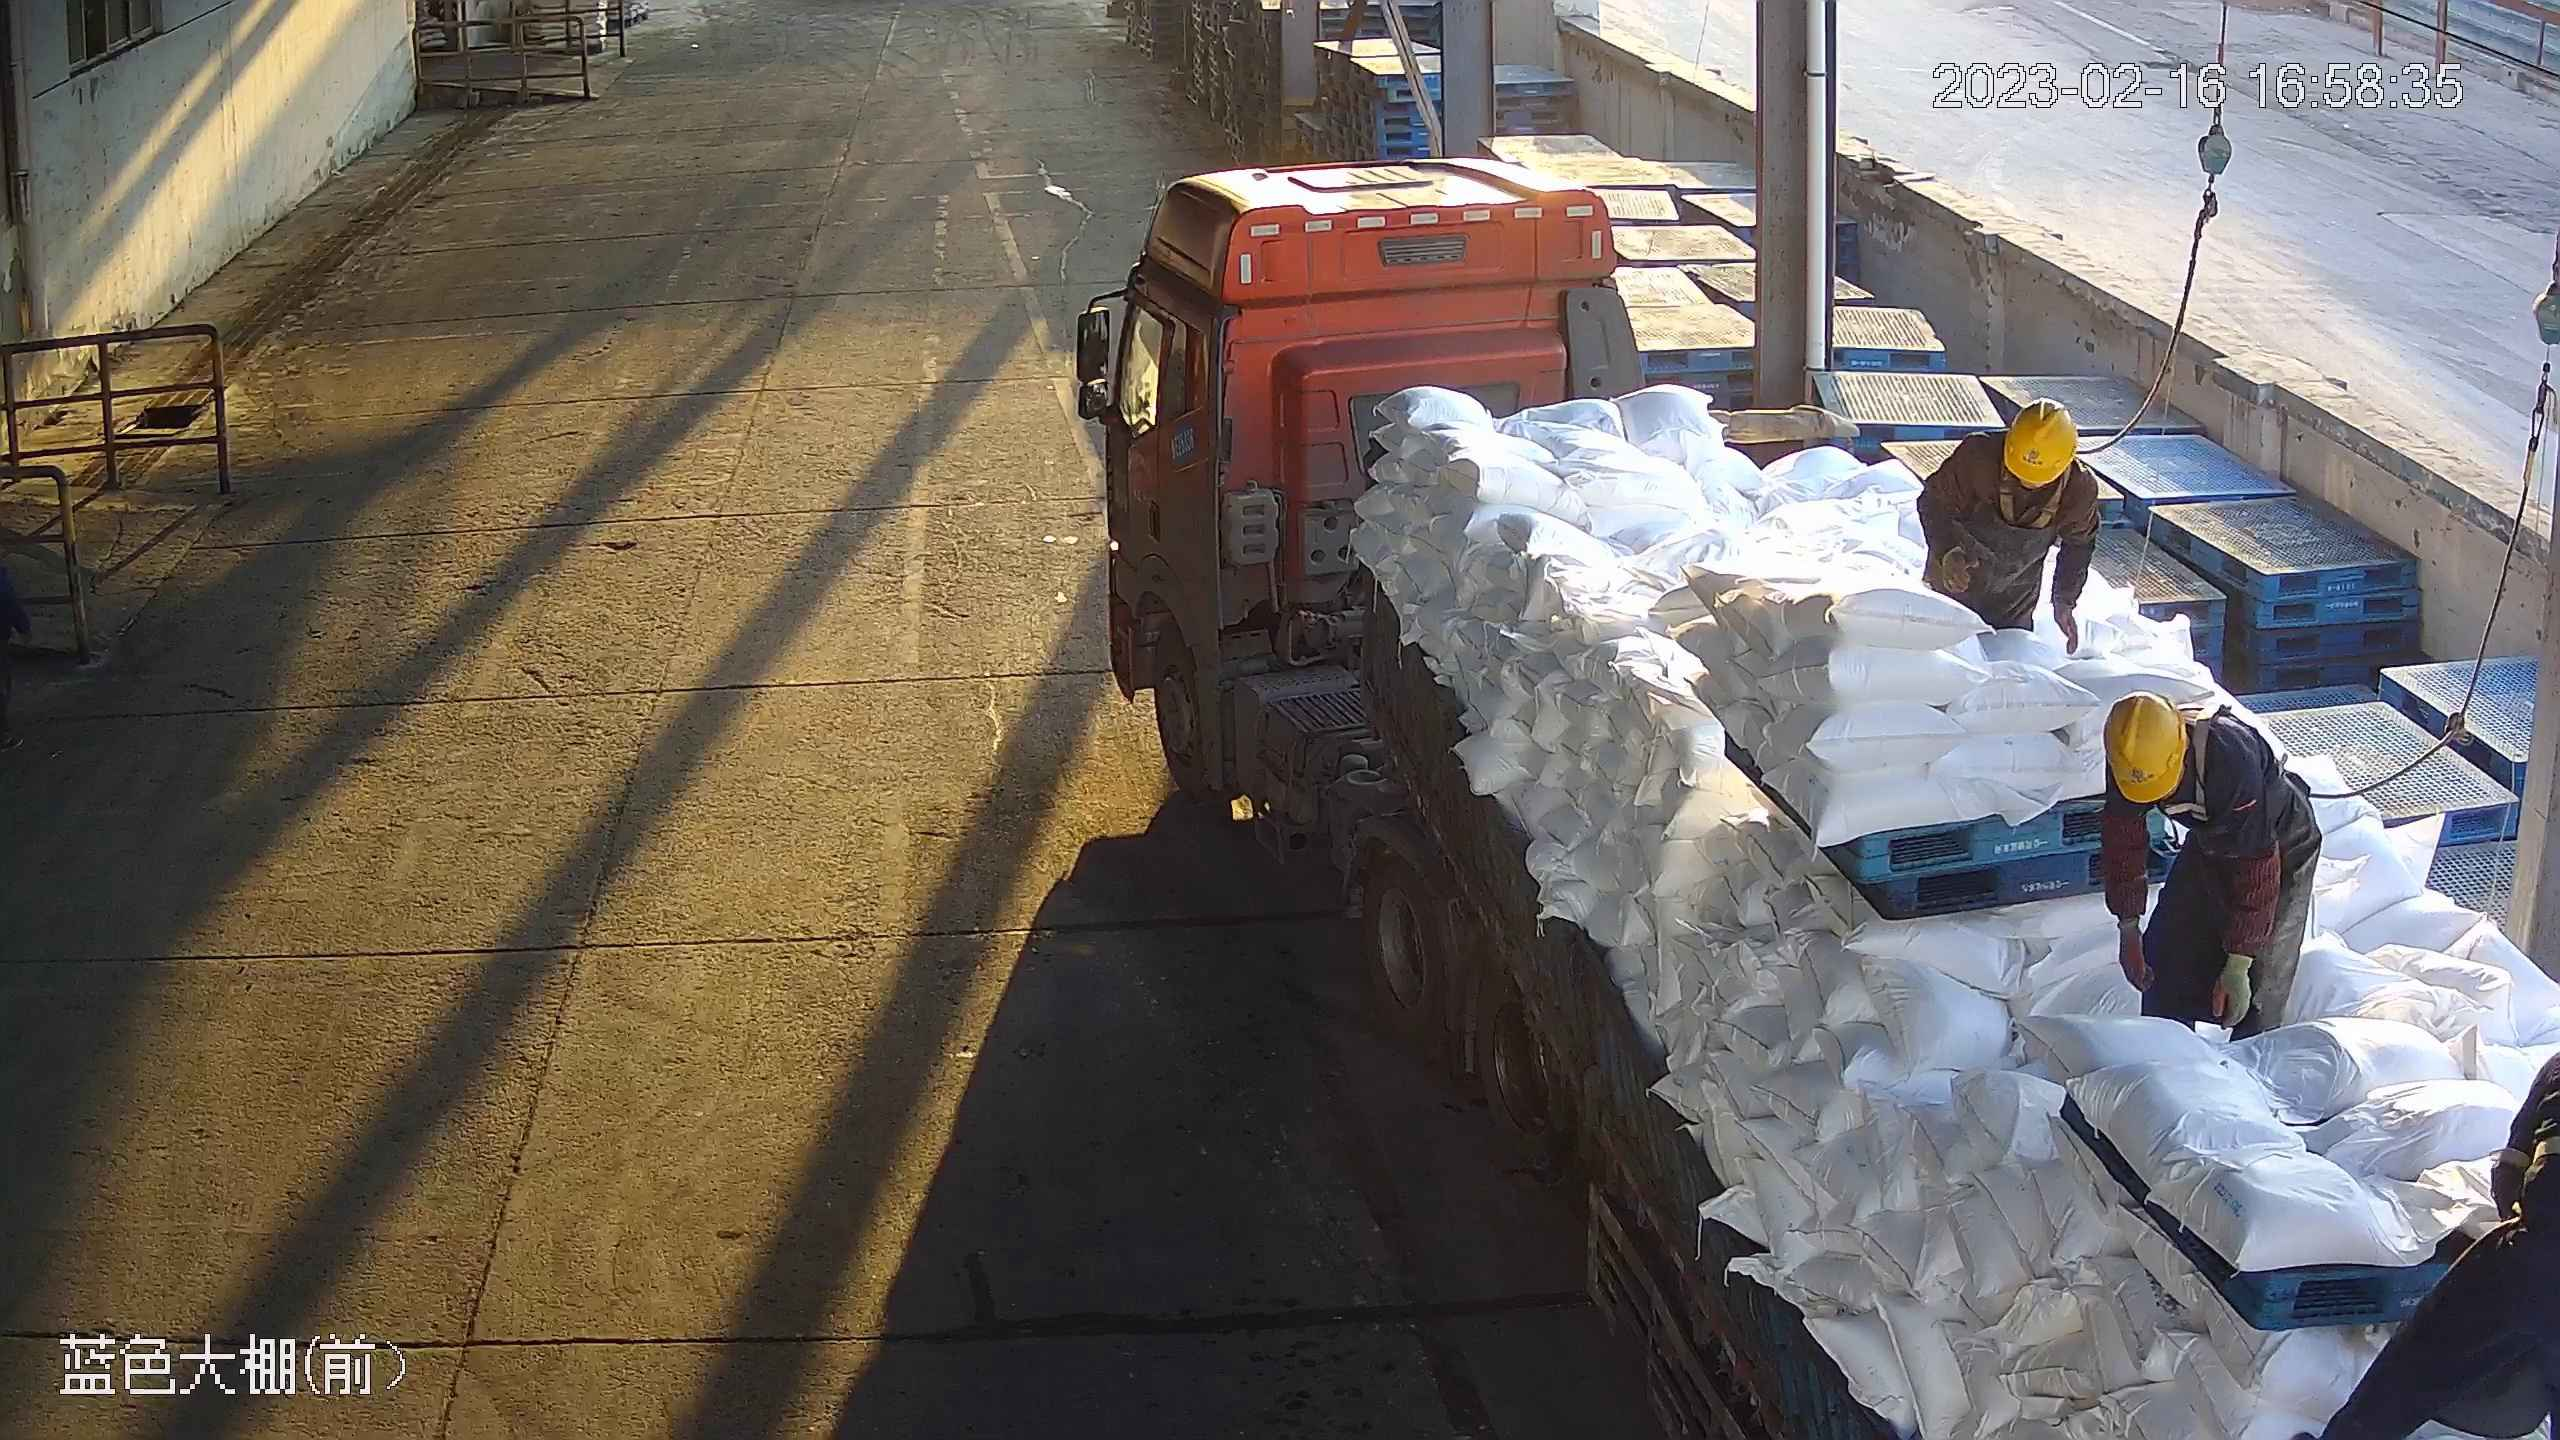belt: (2168, 703, 2235, 823), (1996, 482, 2067, 529)
head: (2106, 695, 2242, 810), (1965, 393, 2090, 507)
helmet: (2102, 693, 2187, 802), (2000, 392, 2079, 485)
people: (2101, 692, 2324, 1037), (1917, 398, 2100, 668)
truck: (1065, 160, 2560, 1440)
